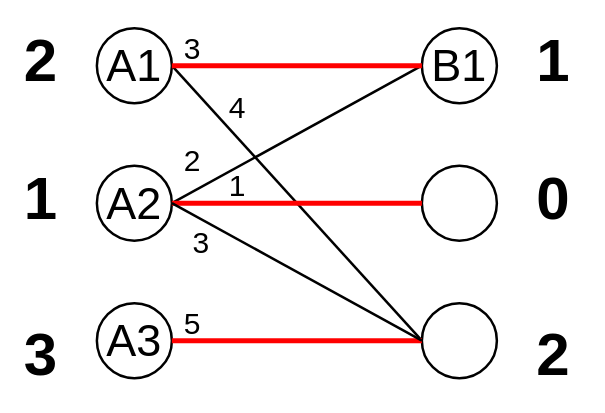
The diagram is 605 pixels wide and 413 high, and some of its shapes have lost their labels. Here are the shapes that lost their labels. From the top down, the centre of each, then its label:
At point (459, 202): "B2".
At point (459, 340): "B3".
